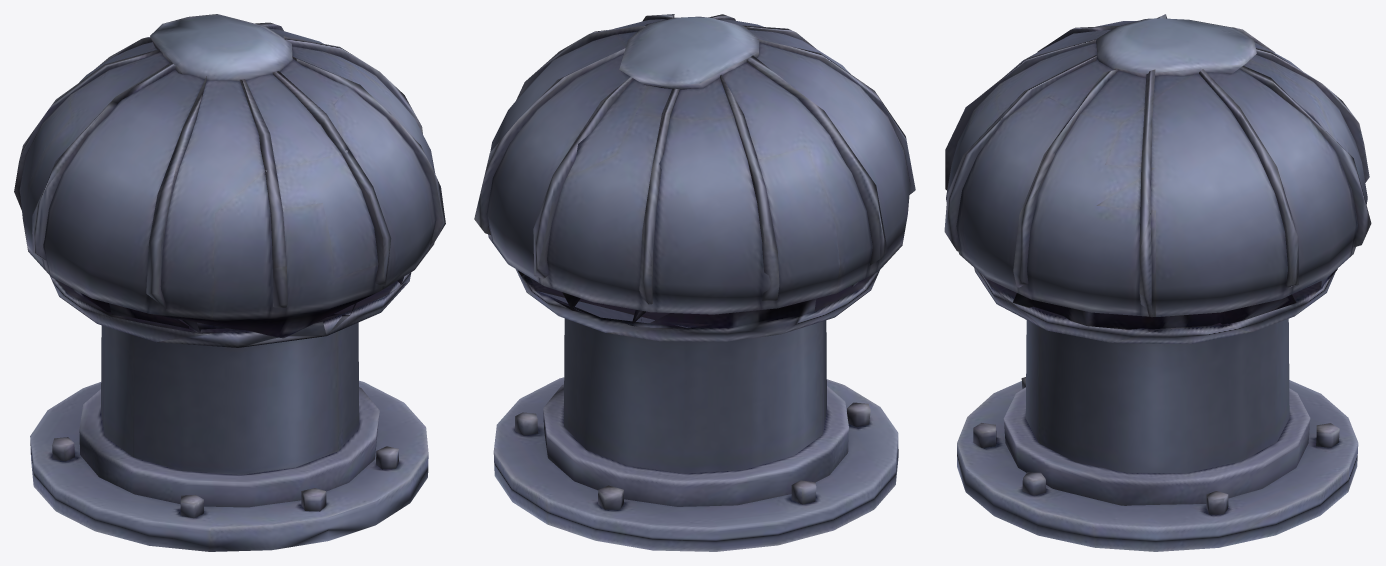
Rendered from roof-vent.glb.
3 renders of one model, left to right at view 1: azimuth 30°, elevation 25°; view 2: azimuth 150°, elevation 25°; view 3: azimuth 270°, elevation 25°, orthographic.
Visible parts, largest first — view 1: shell-meshy-roof-vent--1; view 2: shell-meshy-roof-vent--1; view 3: shell-meshy-roof-vent--1.
Part boxes in pixels (x1=…): shell-meshy-roof-vent--1: x1=14, y1=14, x2=445, y2=551; shell-meshy-roof-vent--1: x1=474, y1=14, x2=915, y2=551; shell-meshy-roof-vent--1: x1=944, y1=14, x2=1371, y2=551.
Bounding box in the file's own units: 0.6942 × 0.75 × 0.6679.
Materials: 1 (1 with a texture image).
